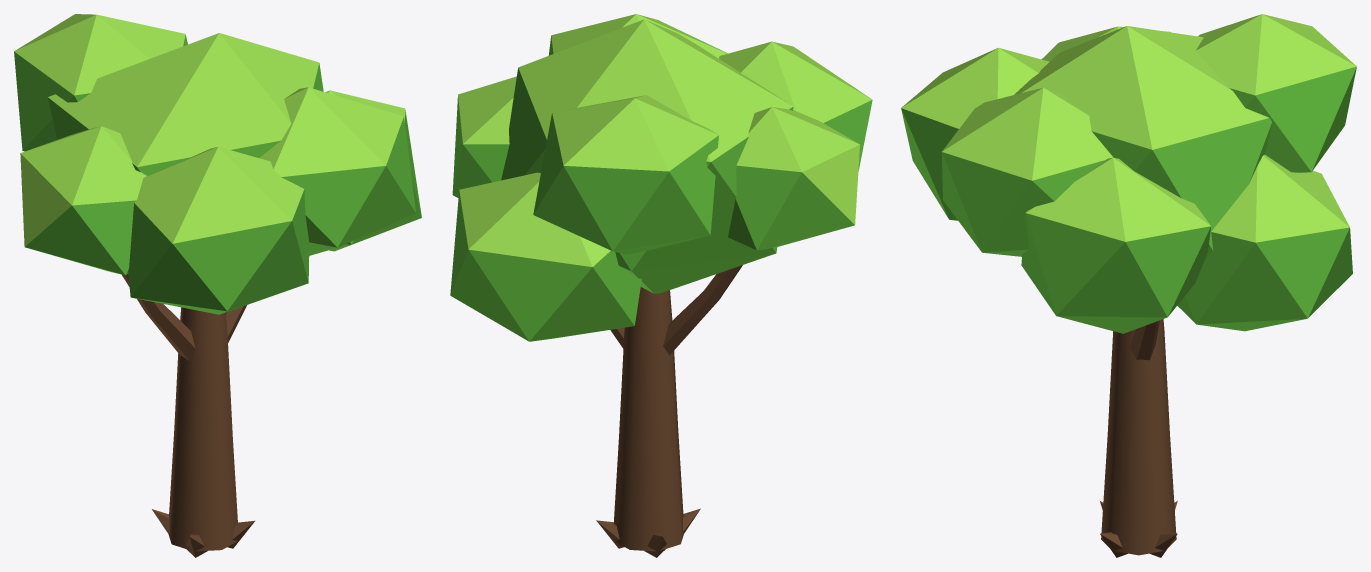
File: OakTree.fbx
3 renders of one model, left to right at view 1: azimuth 30°, elevation 25°; view 2: azimuth 150°, elevation 25°; view 3: azimuth 270°, elevation 25°, orthographic. The views are drawn at different scales.
Parts seen in each view (by area): view 1: OakTree; view 2: OakTree; view 3: OakTree.
Part boxes in pixels (left/top/right/bottom): OakTree: left=14, top=14, right=421, bottom=557; OakTree: left=450, top=14, right=872, bottom=557; OakTree: left=901, top=14, right=1356, bottom=557.
Bounding box in the file's own units: 11.16 × 14.18 × 11.1.
Materials: 1 (1 with a texture image).
